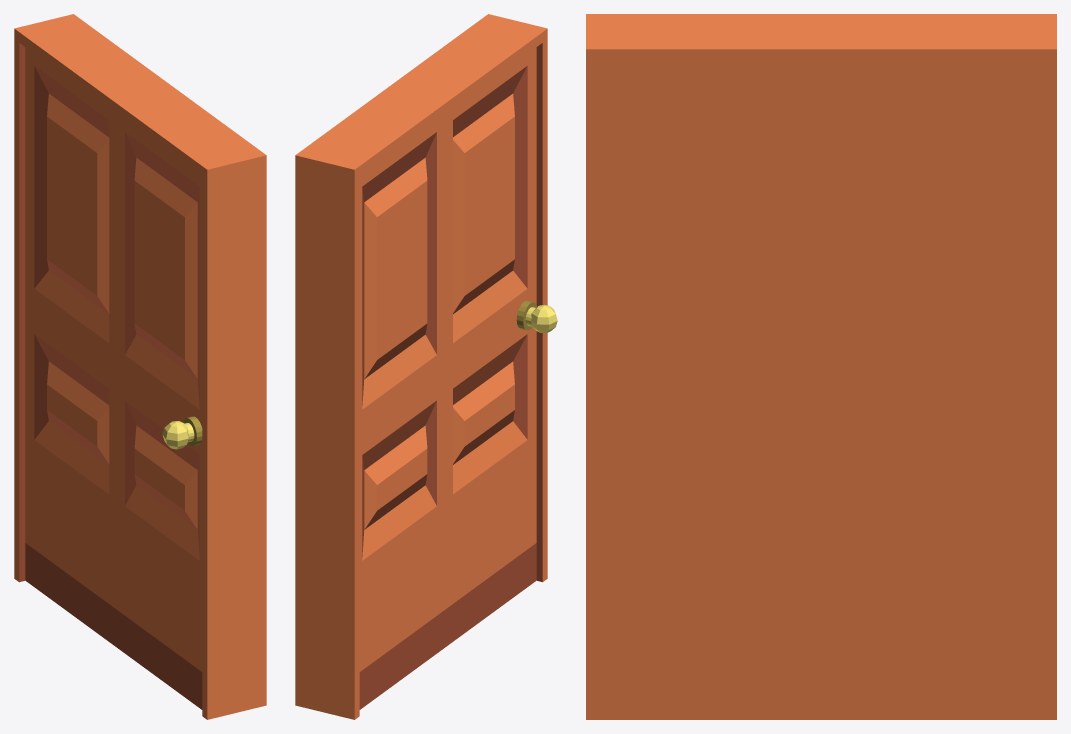
Rendered from Door.fbx.
3 renders of one model, left to right at view 1: azimuth 30°, elevation 25°; view 2: azimuth 150°, elevation 25°; view 3: azimuth 270°, elevation 25°, orthographic. The views are drawn at different scales.
Parts seen in each view (by area): view 1: Cylinder.002; view 2: Cylinder.002; view 3: Cylinder.002.
Boxes of the visible parts, bbox=[...] form: Cylinder.002: bbox=[14, 14, 266, 719]; Cylinder.002: bbox=[295, 14, 557, 719]; Cylinder.002: bbox=[586, 14, 1056, 719].
Size of the model in its own units: 132 by 818 by 520.
